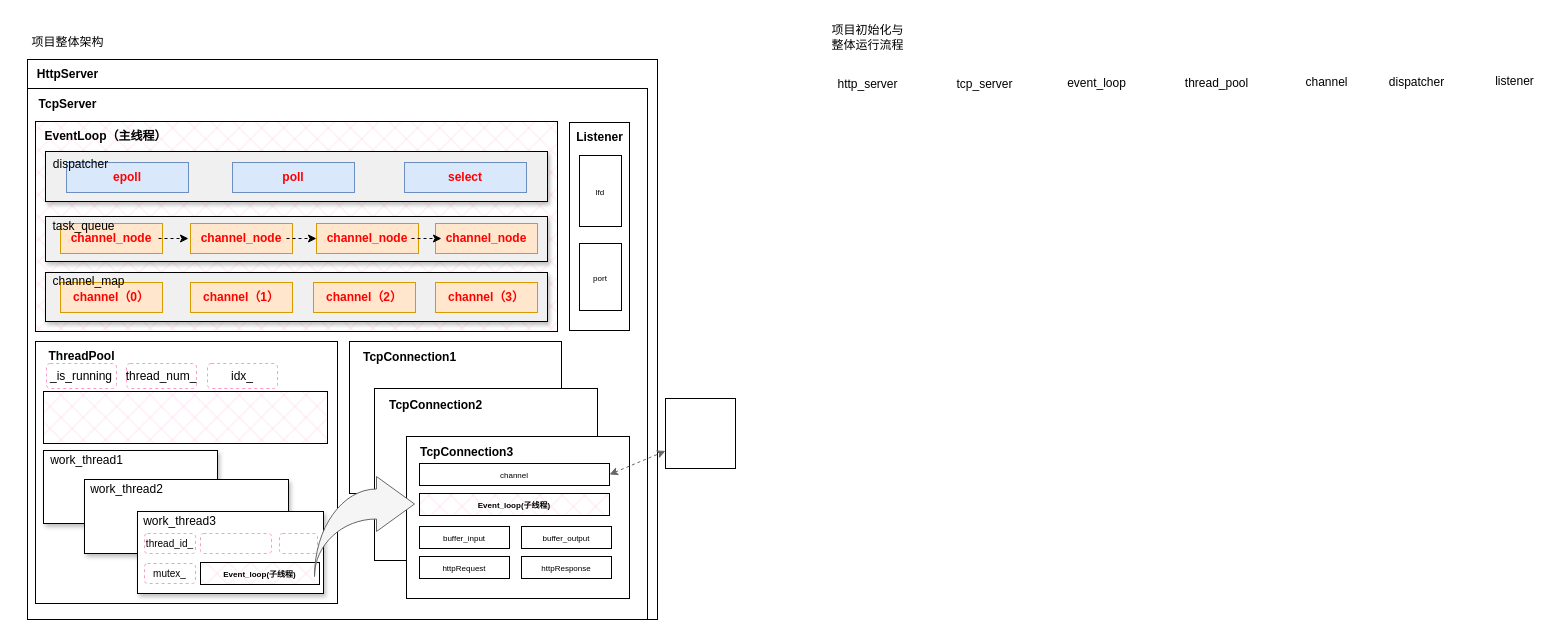
This 1561x637 diagram has some shape labels left out. Each missing label, with the centre of its shape:
"condition_" belongs at point 298,543.
"Event_loop（主线程）" belongs at point 185,417.
"int lfd; int events; read_cb; write_cb;" belongs at point 700,433.
"thread_name_" belongs at point 236,543.
"属于" belongs at point 364,526.
